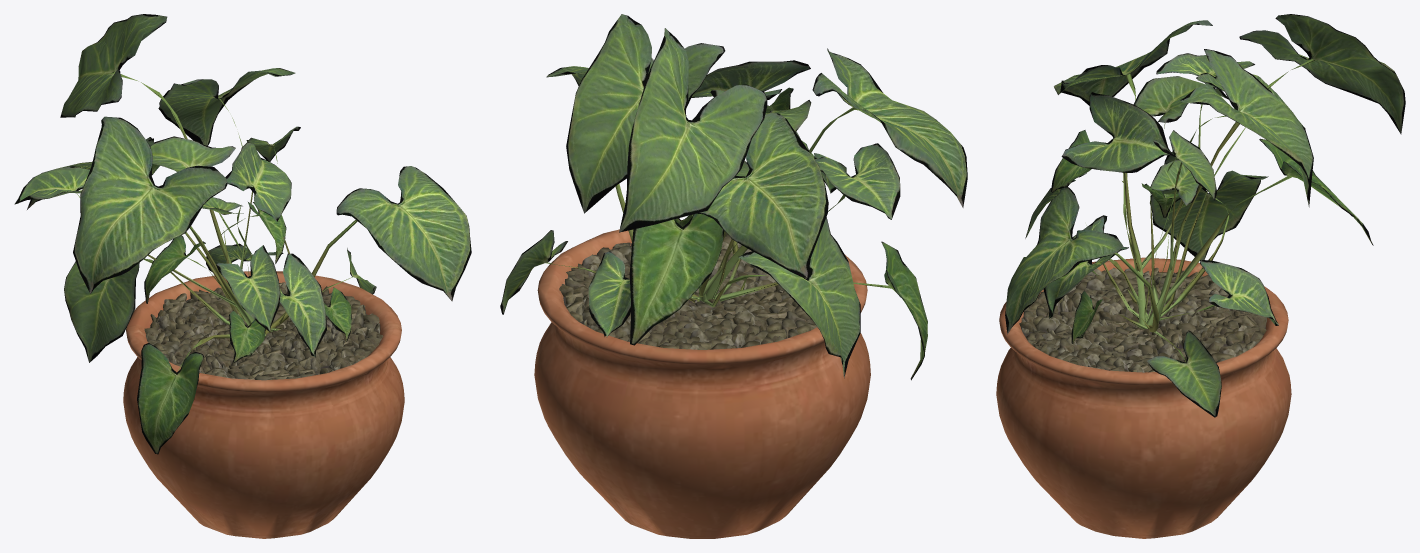
Rendered from potted_plant_02.glb.
3 views of the same model, side by side, from view 1: azimuth 30°, elevation 25°; view 2: azimuth 150°, elevation 25°; view 3: azimuth 270°, elevation 25° (orthographic). The views are drawn at different scales.
Visible parts, largest first — view 1: potted_plant_02_leaves, potted_plant_02_pot; view 2: potted_plant_02_leaves, potted_plant_02_pot; view 3: potted_plant_02_pot, potted_plant_02_leaves.
Boxes of the visible parts, x1=… form: potted_plant_02_leaves: x1=14, y1=14, x2=471, y2=454; potted_plant_02_pot: x1=123, y1=271, x2=404, y2=538; potted_plant_02_leaves: x1=500, y1=14, x2=967, y2=380; potted_plant_02_pot: x1=534, y1=220, x2=870, y2=538; potted_plant_02_pot: x1=996, y1=257, x2=1291, y2=538; potted_plant_02_leaves: x1=1005, y1=14, x2=1405, y2=417.
Bounding box in the file's own units: 0.7009 × 0.8401 × 0.6574.
2 materials, 2 textured.
